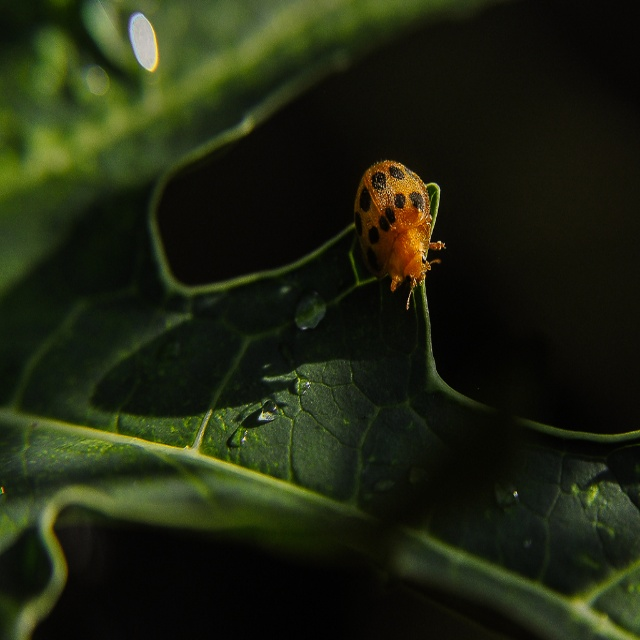Ladybug: (353, 161, 446, 315)
